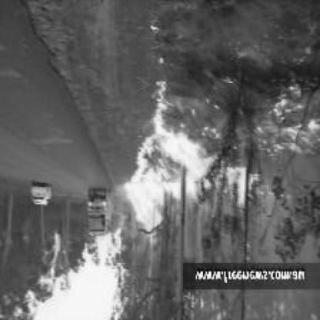Fire: (121, 87, 213, 239), (255, 72, 317, 164), (218, 163, 258, 213)
other: (82, 188, 114, 242)
